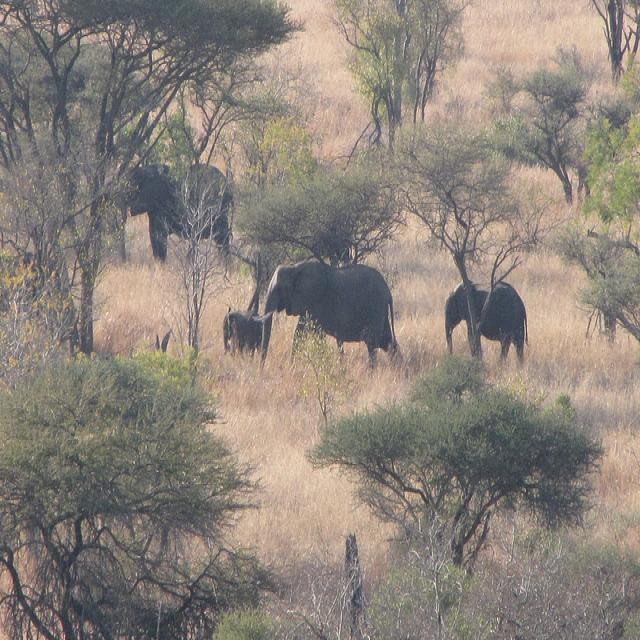Elephant: (260, 259, 401, 369), (112, 162, 234, 266), (444, 279, 528, 365), (222, 308, 273, 364)
